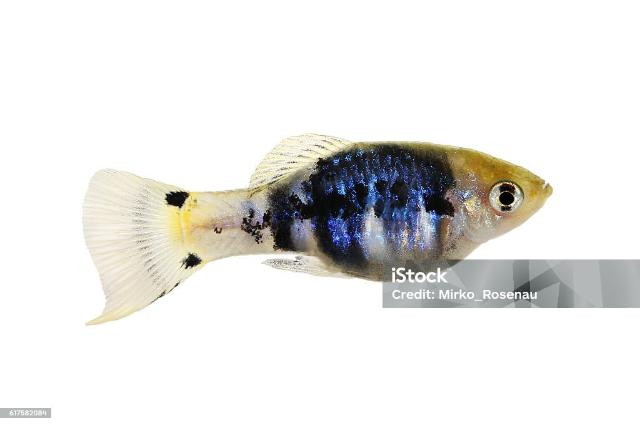Mulut: (514, 154, 570, 216)
Sirip Anal: (257, 245, 345, 297)
Sirip Ekor: (64, 156, 206, 344)
Sirip Punggung: (231, 126, 361, 222)
